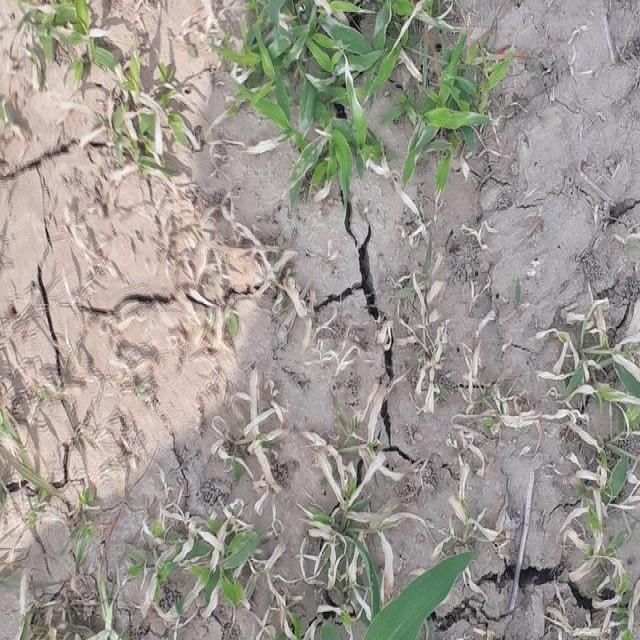weed: (225, 0, 489, 204)
